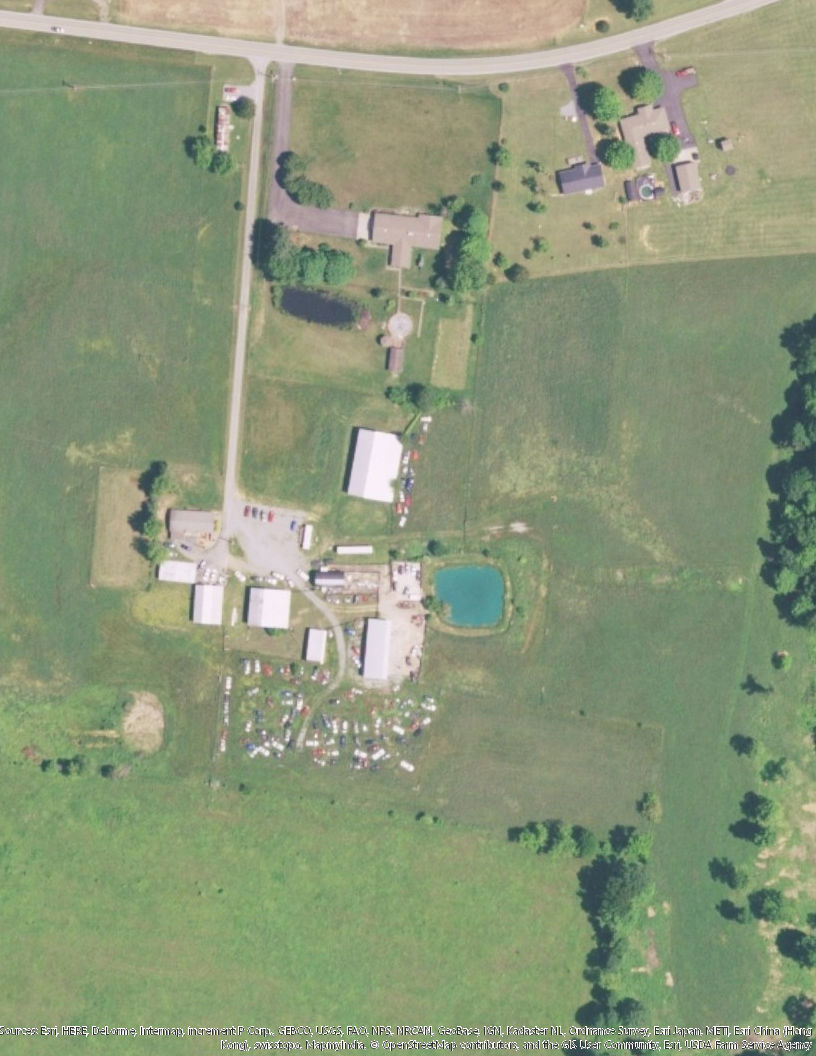cafo: (344, 425, 416, 509), (360, 616, 403, 688)
